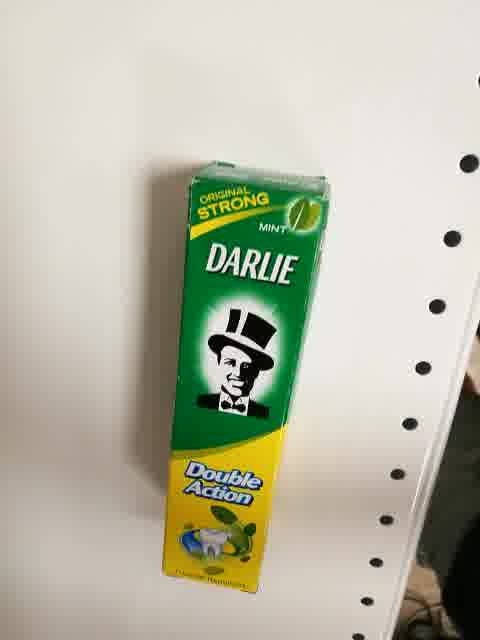toothpaste: (160, 160, 330, 598)
